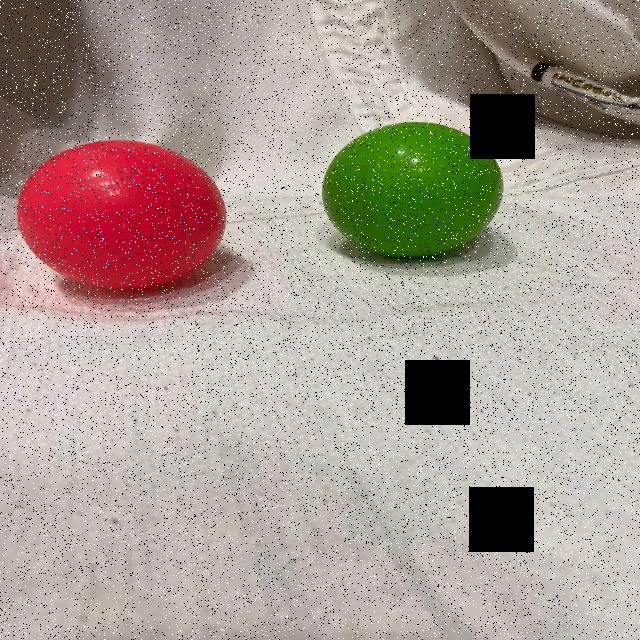ball: (14, 138, 229, 292), (320, 119, 506, 261)
